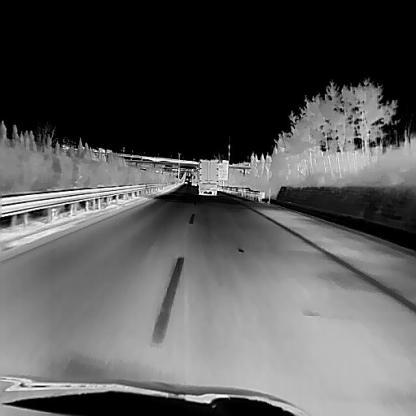car: (196, 158, 219, 194), (191, 174, 197, 184)
